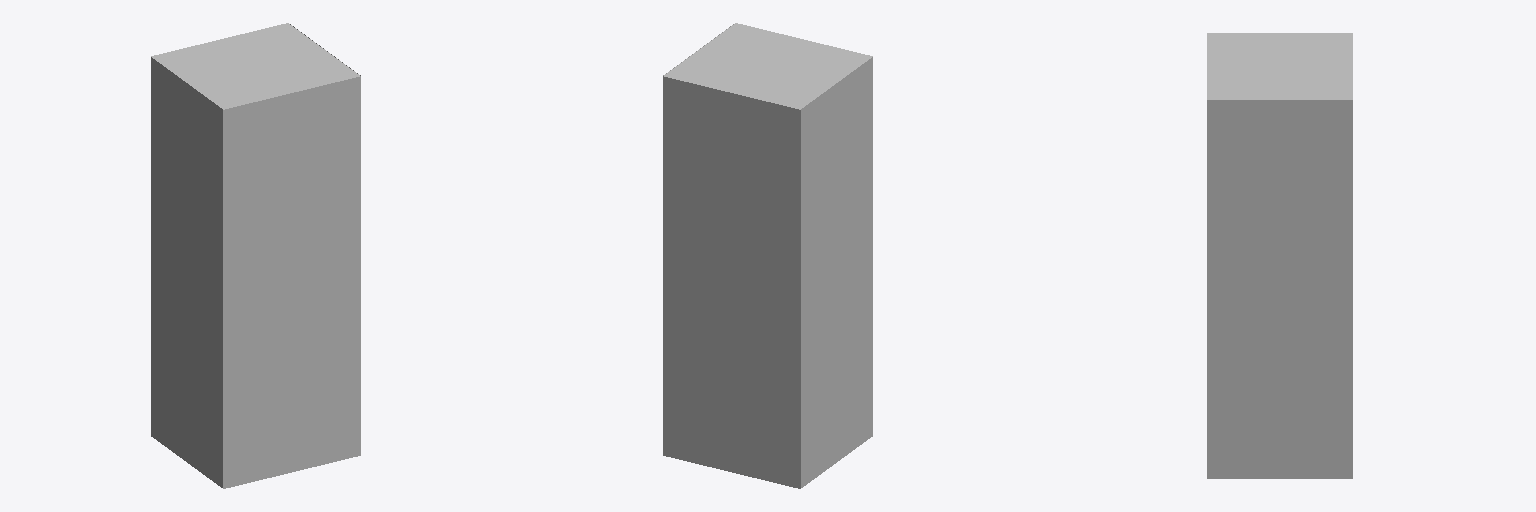
The model's file is S_leg.obj.
The picture shows the model from 3 angles: view 1: azimuth 30°, elevation 25°; view 2: azimuth 150°, elevation 25°; view 3: azimuth 270°, elevation 25°; orthographic projection.
Visible parts, largest first — view 1: mesh01; view 2: mesh01; view 3: mesh01.
Part boxes in pixels (left/top/right/bottom): mesh01: left=151, top=23, right=360, bottom=488; mesh01: left=663, top=23, right=872, bottom=488; mesh01: left=1207, top=33, right=1352, bottom=478.
Bounding box in the file's own units: 1.14 × 2.99 × 1.04.